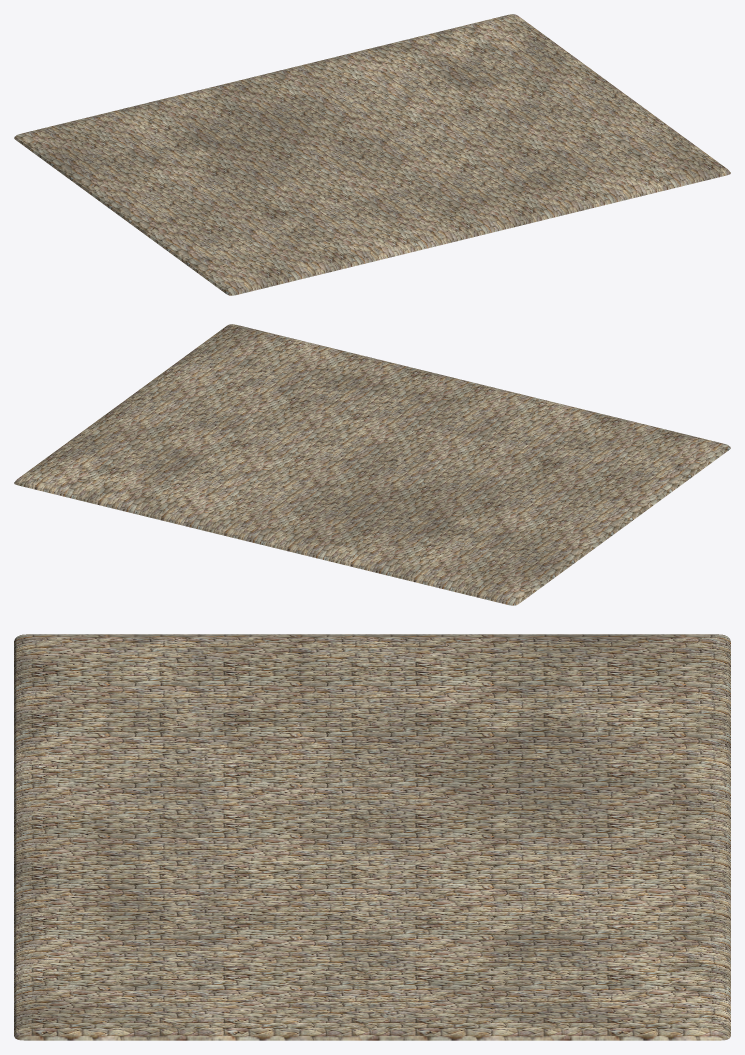
Rendered from White Carpet.fbx.
3 renders of one model, top to bottom at view 1: azimuth 30°, elevation 25°; view 2: azimuth 150°, elevation 25°; view 3: azimuth 270°, elevation 25°, orthographic. The views are drawn at different scales.
Visible parts, largest first — view 1: carpet-29915_frame; view 2: carpet-29915_frame; view 3: carpet-29915_frame.
Part boxes in pixels (box(x1,y1,x2,y2)): carpet-29915_frame: box(14, 14, 730, 295); carpet-29915_frame: box(14, 324, 730, 605); carpet-29915_frame: box(14, 634, 730, 1040).
Size of the model in its own units: 200 by 2 by 150.
Materials: 1 (1 with a texture image).
